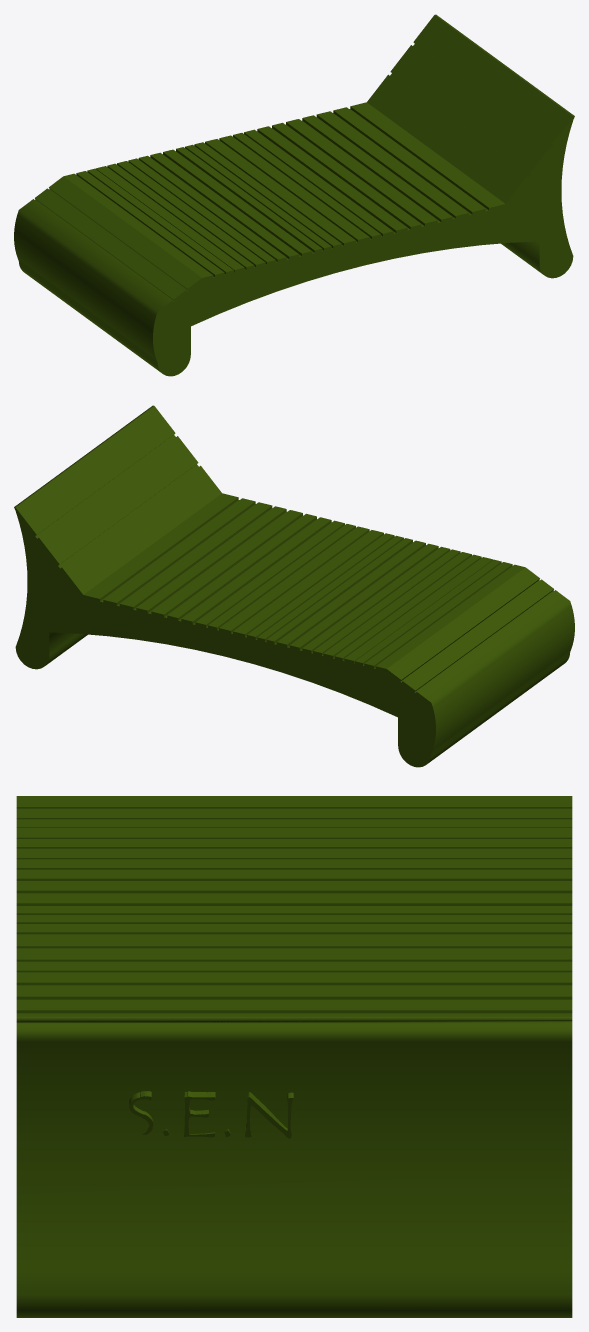
The picture shows the model from 3 angles, top to bottom: view 1: azimuth 30°, elevation 25°; view 2: azimuth 150°, elevation 25°; view 3: azimuth 270°, elevation 25°; orthographic projection. The views are drawn at different scales.
Parts seen in each view (by area): view 1: mesh11_mesh11-geometry; view 2: mesh11_mesh11-geometry; view 3: mesh11_mesh11-geometry, mesh5_mesh5-geometry, mesh3_mesh3-geometry.
Boxes of the visible parts, x1,y1,x2,y2 form: mesh11_mesh11-geometry: (14, 14, 574, 376); mesh11_mesh11-geometry: (14, 405, 574, 767); mesh11_mesh11-geometry: (16, 796, 572, 1317); mesh5_mesh5-geometry: (245, 1092, 293, 1138); mesh3_mesh3-geometry: (184, 1091, 215, 1137).
Size of the model in its own units: 0.8277 by 0.3038 by 0.4718.
